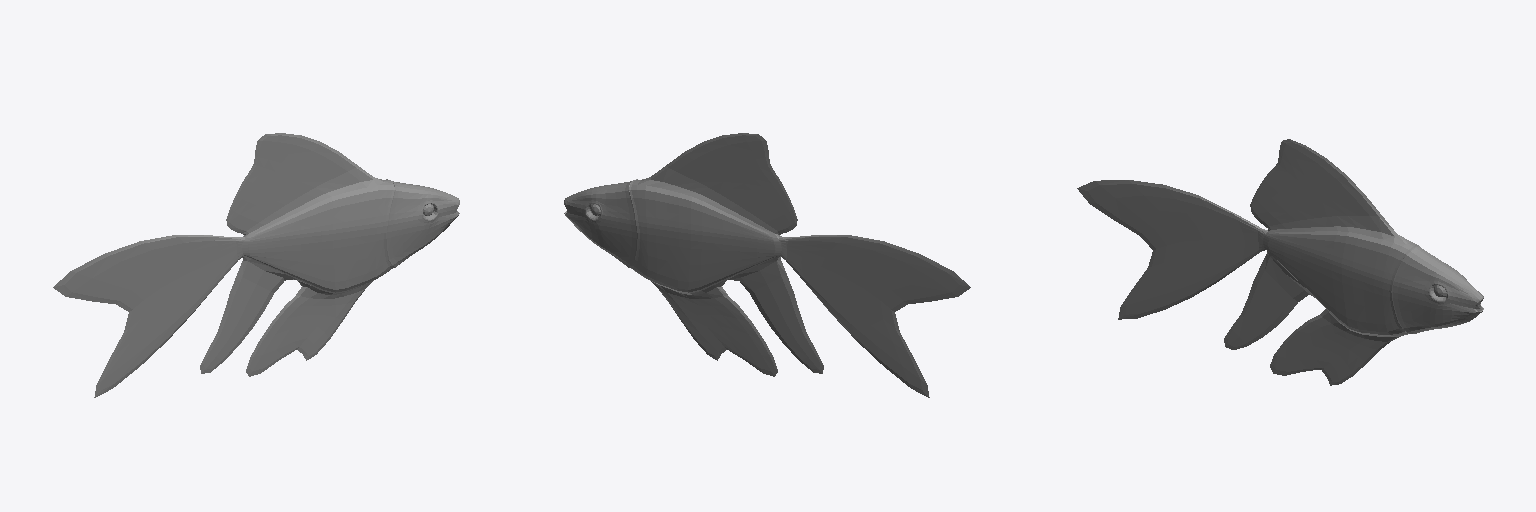
The model's file is Golden_Fish_OBJ.obj.
The picture shows the model from 3 angles: view 1: azimuth 30°, elevation 25°; view 2: azimuth 150°, elevation 25°; view 3: azimuth 330°, elevation 25°; orthographic projection.
Visible parts, largest first — view 1: Box01; view 2: Box01; view 3: Box01.
Boxes of the visible parts, x1=… form: Box01: x1=53, y1=133, x2=459, y2=397; Box01: x1=564, y1=133, x2=970, y2=397; Box01: x1=1077, y1=139, x2=1483, y2=385.
Bounding box in the file's own units: 79.07 × 44.4 × 6.44.